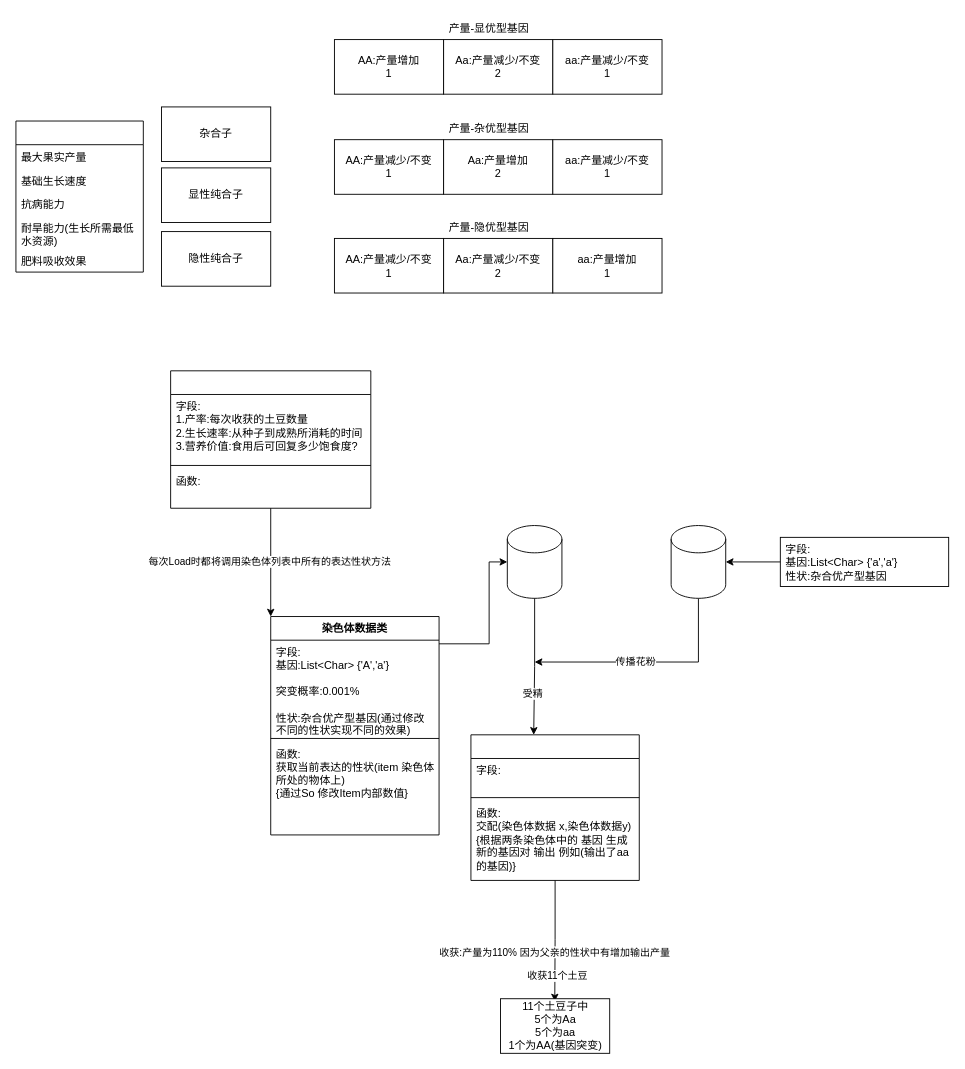
The diagram is 965 pixels wide and 1069 high, and some of its shapes have lost their labels. Each missing label, with the box of its shape:
土豆A: (506, 525, 562, 598)
土豆B: (670, 525, 726, 598)
土豆数值类: (170, 370, 371, 508)
性状列表: (15, 120, 143, 272)
繁殖类: (470, 734, 639, 880)
